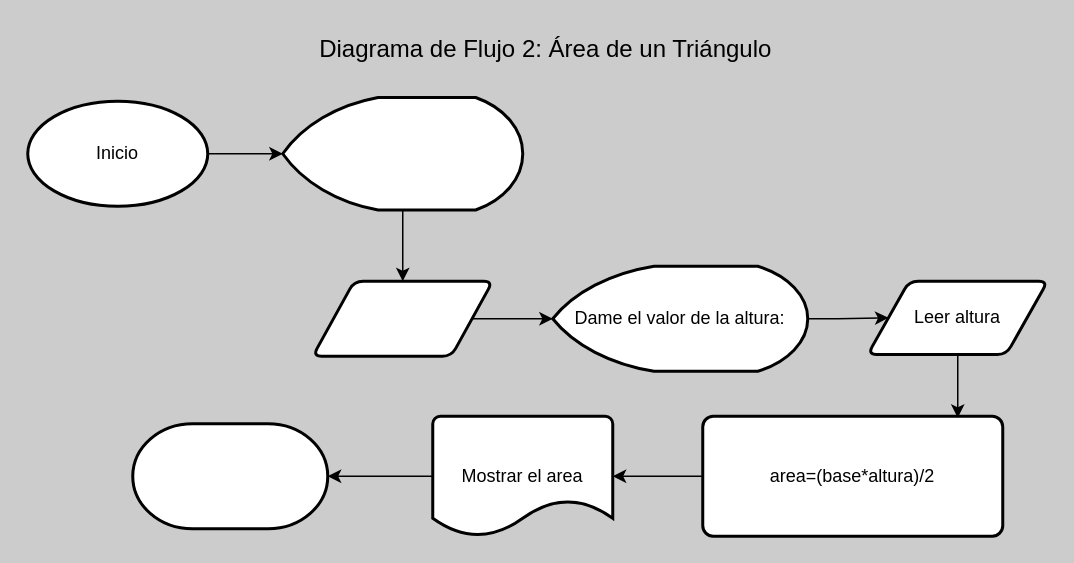
Some shapes in this 1074 by 563 pixel diagram are drawn without their labels. The box of each missing label's shape, as (x1, y1, x2, y2) in pixels:
Dame el valor de la base:: (280, 95, 524, 211)
Fin: (130, 422, 328, 530)
Leer base: (310, 279, 494, 357)
